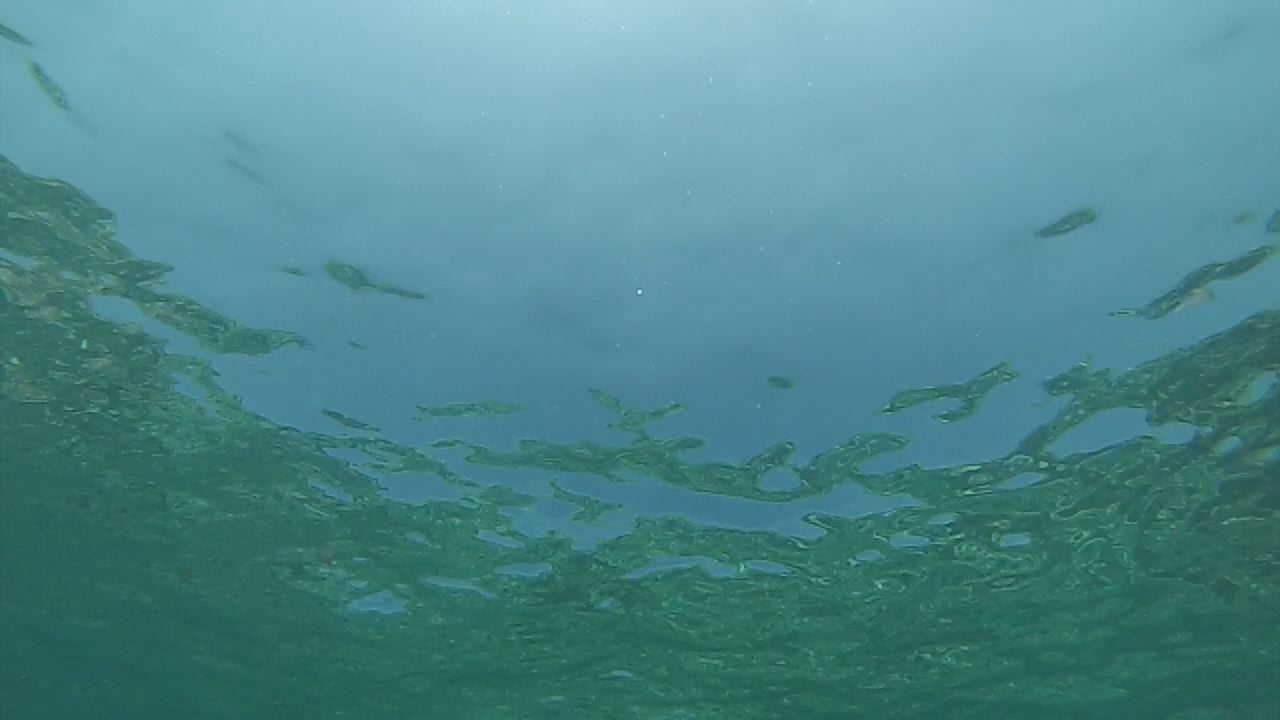pelagia: (1172, 283, 1216, 318), (315, 544, 344, 577)
